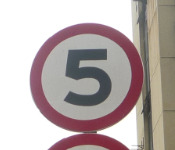speed_limit_5: (29, 22, 144, 132)
